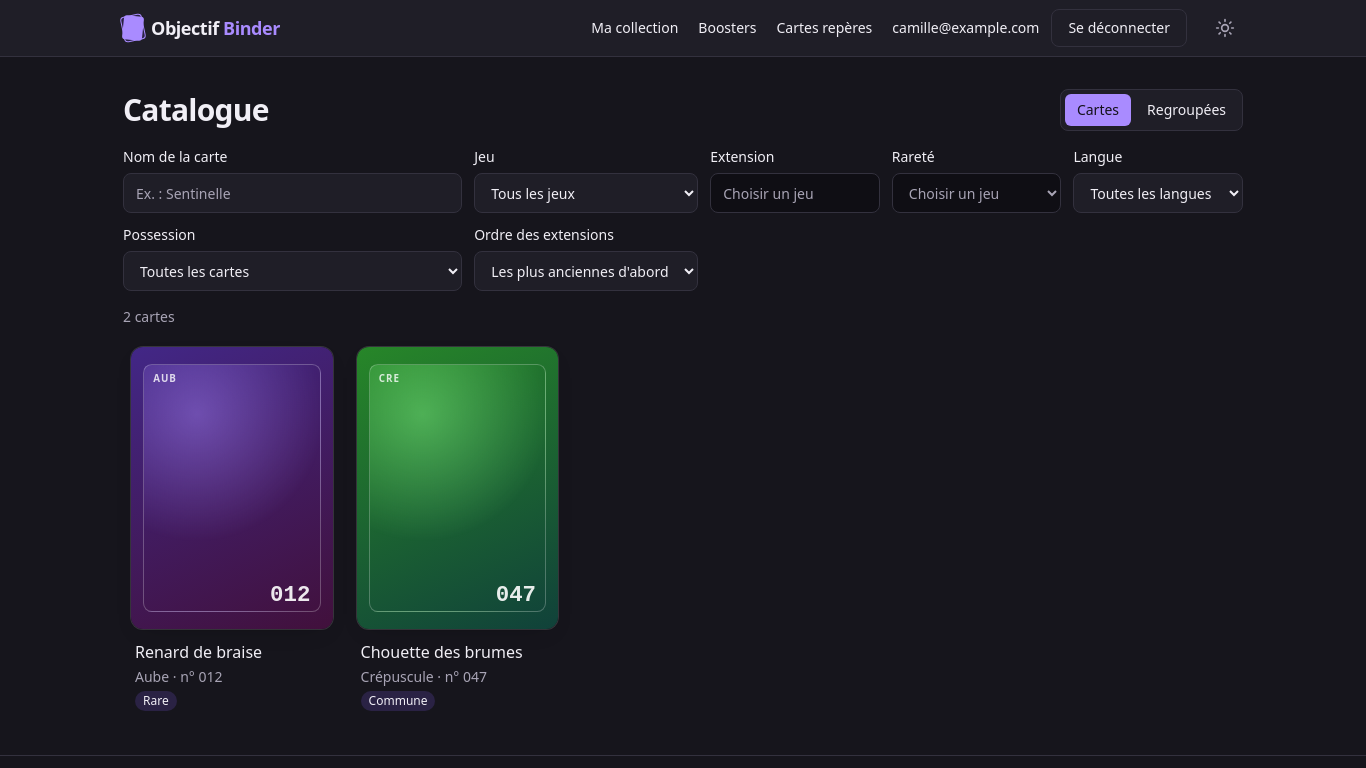
Scenario: which booster to open › is reached from the header once signed in
The width and height of the screenshot is (1366, 768).
Click the link "Boosters" at (727, 28), box x1=698 y1=18 x2=756 y2=38
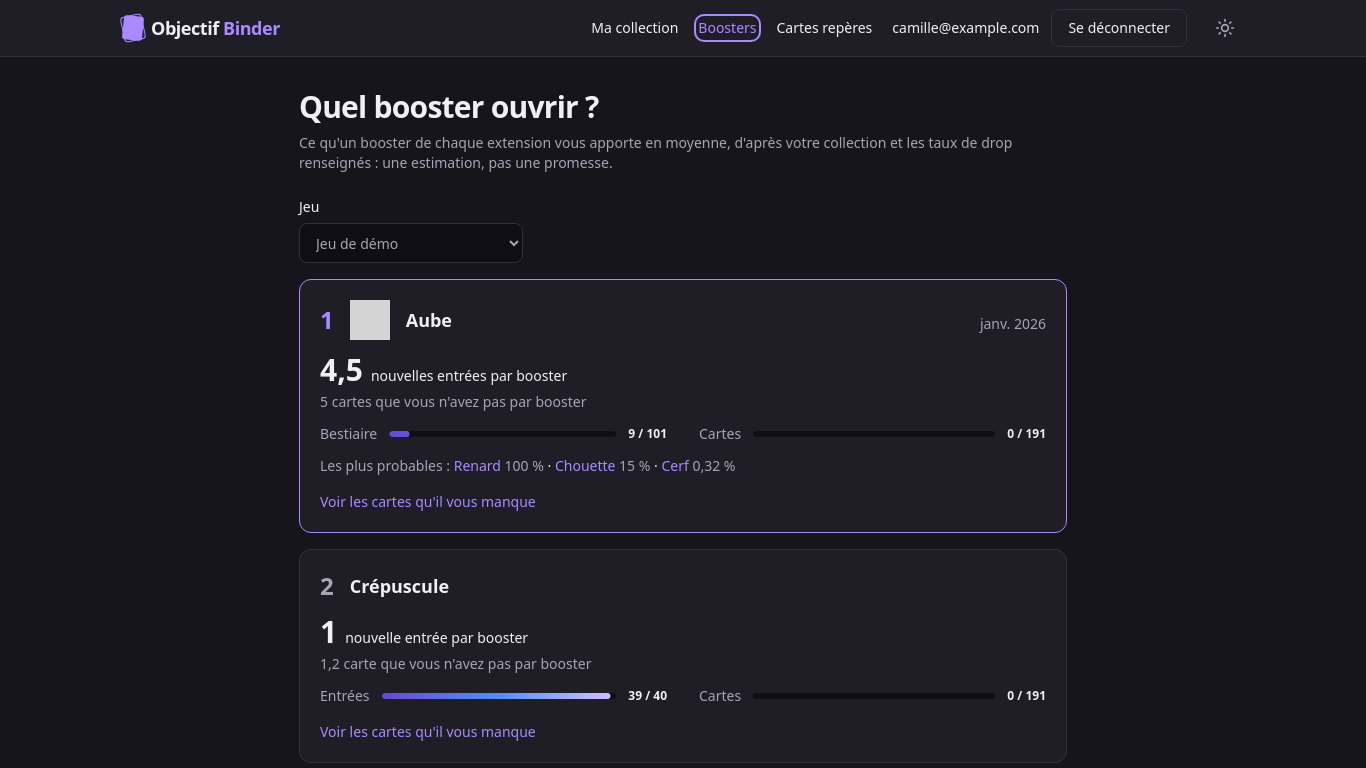
Now the heading "Quel booster ouvrir ?" is shown, box x1=299 y1=86 x2=599 y2=127
